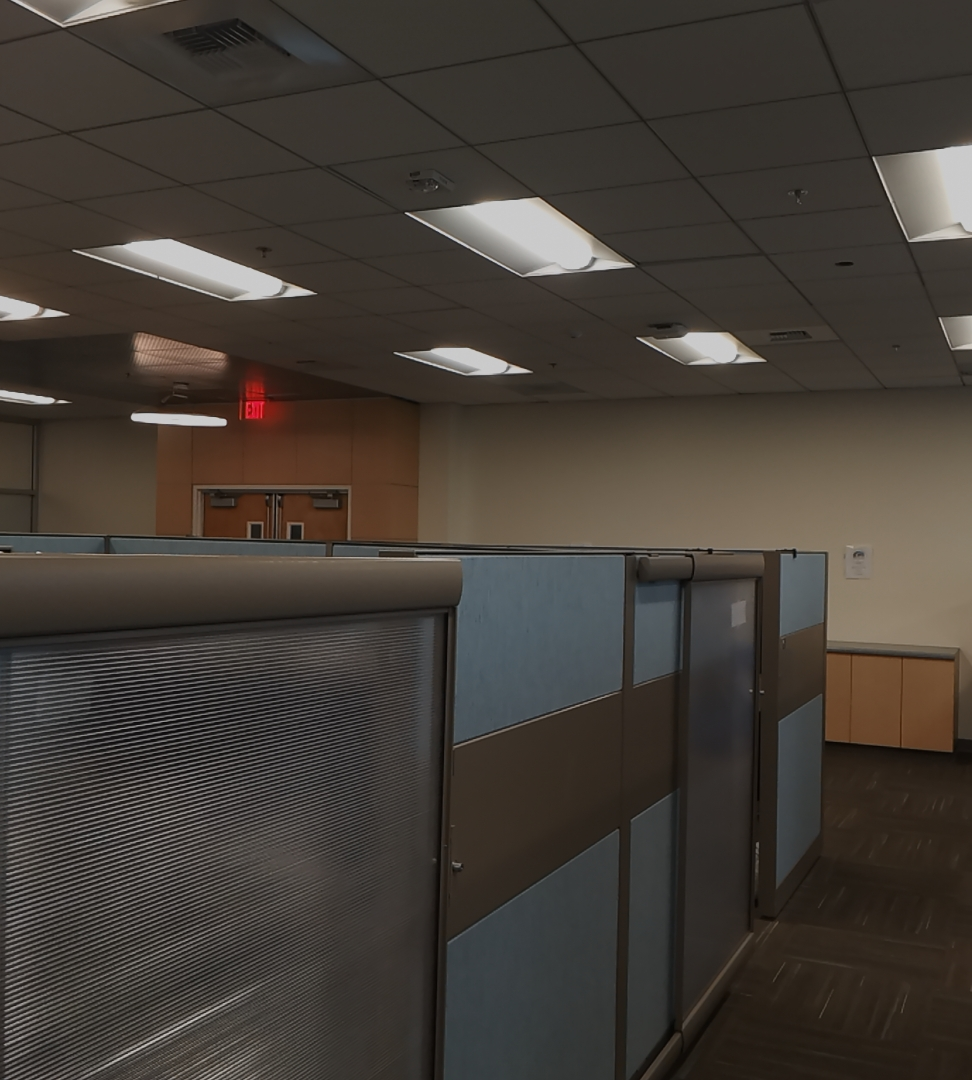emergency_exit: (237, 378, 268, 422)
